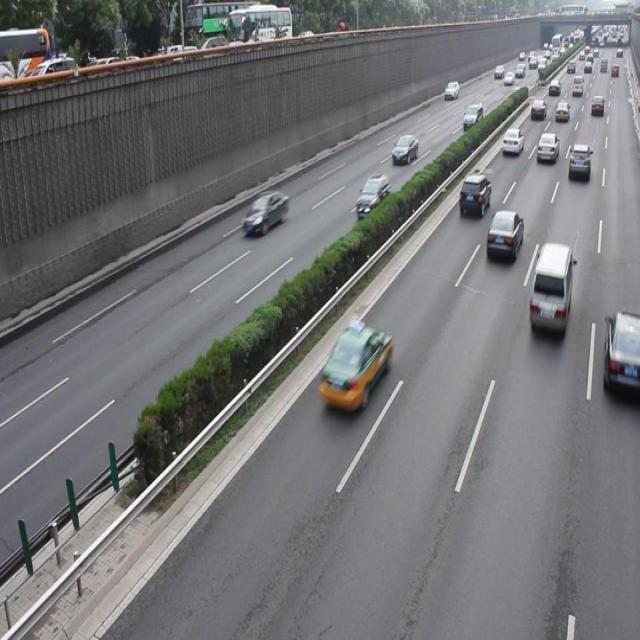car: (318, 321, 392, 413), (602, 310, 640, 400), (241, 190, 290, 237), (484, 208, 522, 264), (354, 172, 389, 218), (457, 171, 490, 217), (566, 142, 589, 180)
truck: (527, 242, 572, 331)
